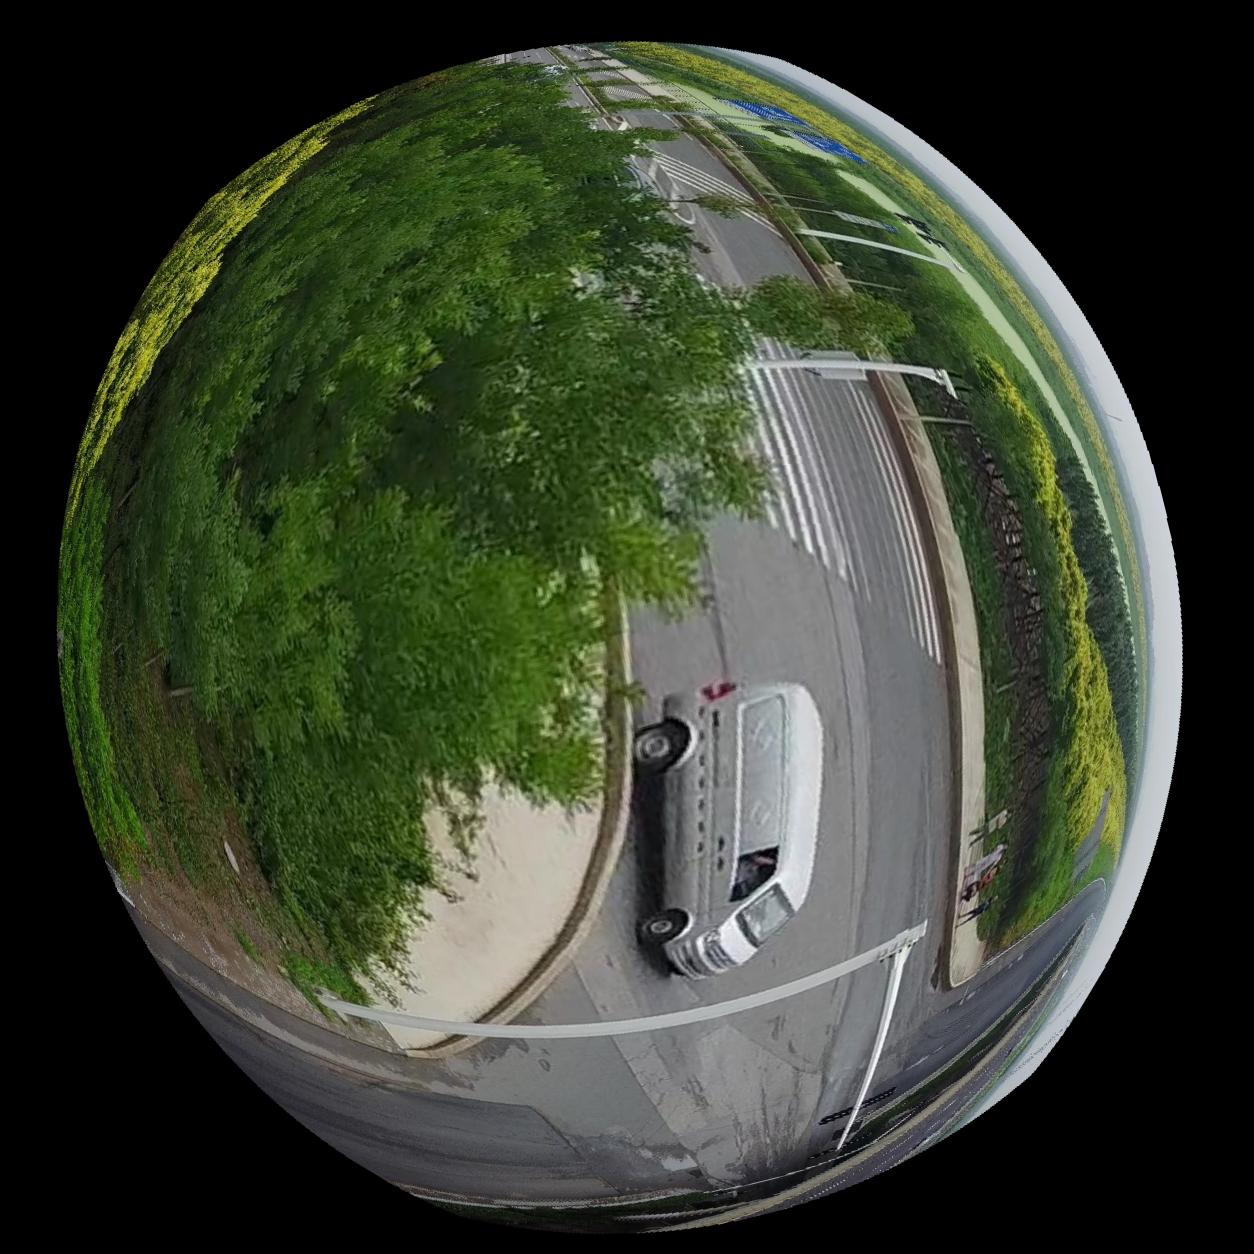cars: (634, 683, 823, 983)
trees: (57, 63, 782, 982), (656, 47, 1167, 955), (735, 276, 914, 355)
